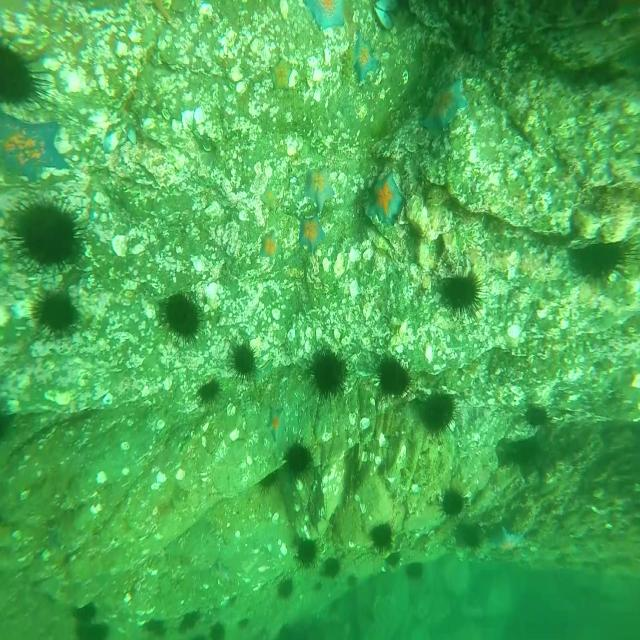echinus: (5, 193, 94, 279), (0, 31, 54, 118), (572, 231, 640, 295), (304, 338, 354, 413), (26, 284, 84, 342), (159, 287, 208, 349), (440, 267, 488, 327), (418, 388, 463, 442), (375, 352, 415, 408), (225, 338, 260, 389), (284, 438, 317, 485), (439, 484, 468, 522), (195, 376, 225, 410), (369, 521, 395, 558), (294, 534, 320, 571), (522, 402, 552, 430), (460, 520, 482, 552), (258, 468, 281, 498), (75, 621, 109, 639), (179, 609, 200, 637), (74, 600, 96, 626), (322, 554, 343, 580), (275, 577, 296, 601), (146, 617, 167, 640), (404, 560, 424, 582), (210, 620, 226, 640), (386, 550, 402, 568), (346, 571, 358, 587), (238, 616, 249, 631)
holothurian: (341, 45, 356, 88)
starfish: (0, 118, 72, 186), (421, 74, 470, 142), (366, 168, 408, 229), (350, 30, 380, 88), (303, 164, 335, 216), (305, 1, 348, 35), (489, 522, 524, 557), (298, 214, 325, 253), (265, 402, 288, 443), (268, 56, 293, 93), (259, 229, 281, 264), (260, 184, 278, 215)
